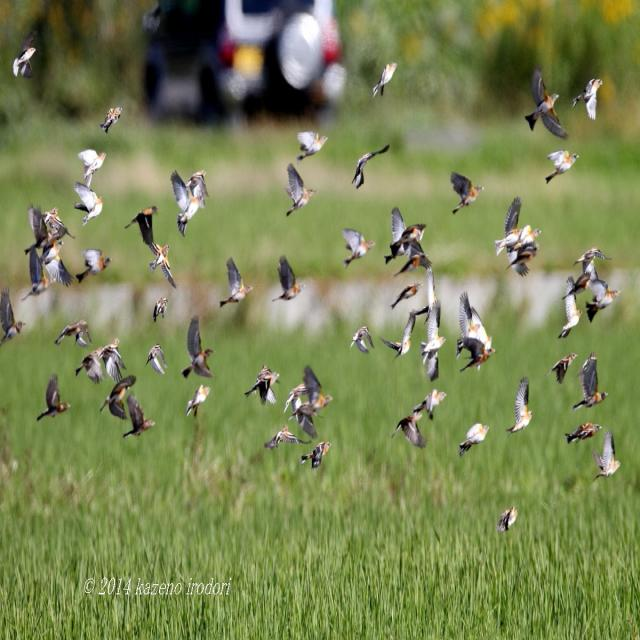bird: (454, 291, 498, 366), (171, 173, 210, 234), (524, 92, 568, 140), (180, 321, 216, 378), (29, 205, 73, 249), (352, 143, 393, 187), (582, 283, 622, 328), (506, 378, 535, 438), (289, 366, 334, 404), (220, 259, 254, 308), (576, 356, 609, 406), (1, 294, 31, 346), (25, 247, 60, 290), (243, 367, 281, 406), (499, 240, 540, 276), (394, 409, 430, 450), (386, 242, 430, 275), (544, 147, 582, 185), (40, 376, 72, 421), (285, 167, 313, 218), (124, 204, 158, 246), (144, 244, 178, 286), (492, 199, 524, 243), (572, 79, 607, 119), (572, 243, 614, 276), (74, 179, 104, 225), (556, 292, 583, 342), (387, 316, 419, 358), (419, 332, 445, 383), (596, 431, 623, 479), (10, 36, 40, 78), (123, 401, 157, 438), (76, 246, 112, 280), (288, 400, 326, 432), (450, 174, 481, 213), (342, 228, 373, 267), (274, 256, 300, 302), (54, 318, 93, 348), (388, 209, 423, 242), (370, 63, 399, 102), (459, 420, 492, 454), (410, 388, 450, 416), (262, 426, 305, 452), (296, 128, 327, 162), (102, 384, 131, 420), (301, 440, 332, 472), (185, 384, 212, 420), (74, 352, 105, 383), (75, 148, 105, 180), (550, 352, 578, 385), (390, 283, 422, 310), (351, 323, 378, 355), (146, 345, 170, 378), (566, 421, 600, 443), (102, 108, 124, 137), (151, 296, 171, 326), (498, 508, 518, 531)
